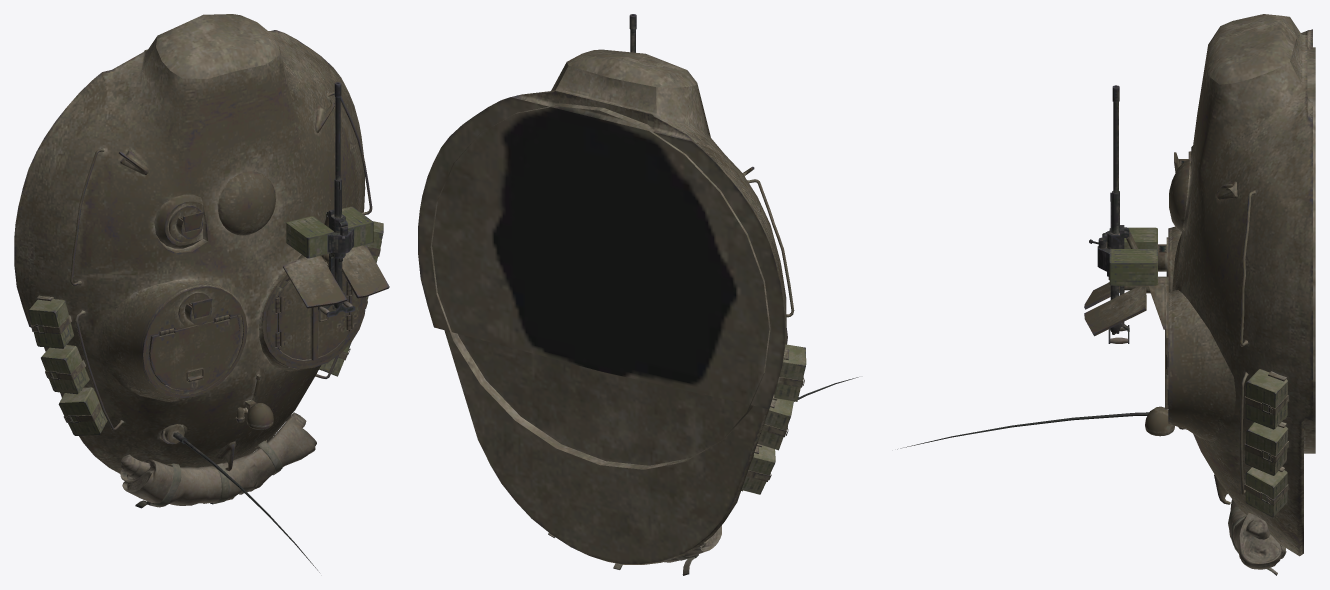
Rendered from Turret_01.glb.
3 renders of one model, left to right at view 1: azimuth 30°, elevation 25°; view 2: azimuth 150°, elevation 25°; view 3: azimuth 270°, elevation 25°, orthographic. The views are drawn at different scales.
Visible parts, largest first — view 1: set_0_group_0; view 2: set_0_group_0; view 3: set_0_group_0.
Part boxes in pixels (bbox=[...]): set_0_group_0: bbox=[14, 14, 389, 572]; set_0_group_0: bbox=[418, 14, 858, 575]; set_0_group_0: bbox=[897, 14, 1315, 575].
Bounding box in the file's own units: 2.85 × 3.74 × 2.69.
1 material, 1 textured.
